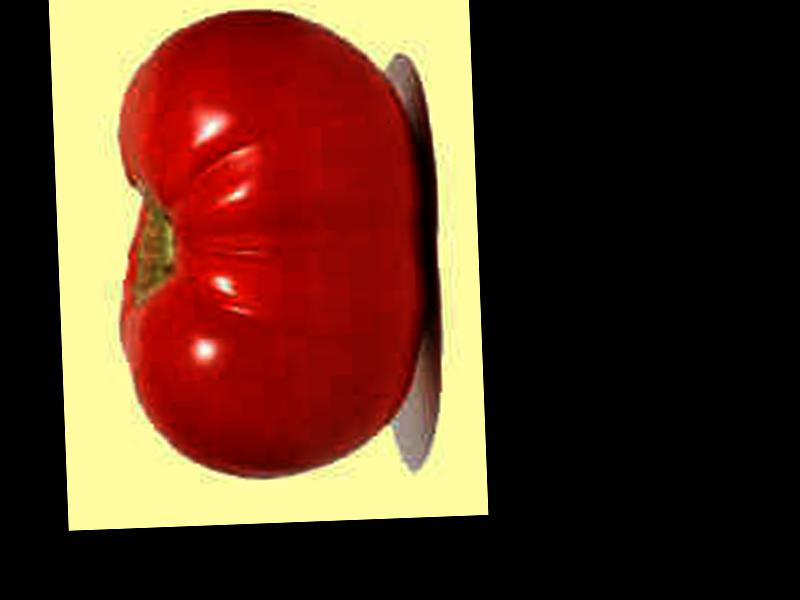Tomato: (108, 3, 431, 481)
